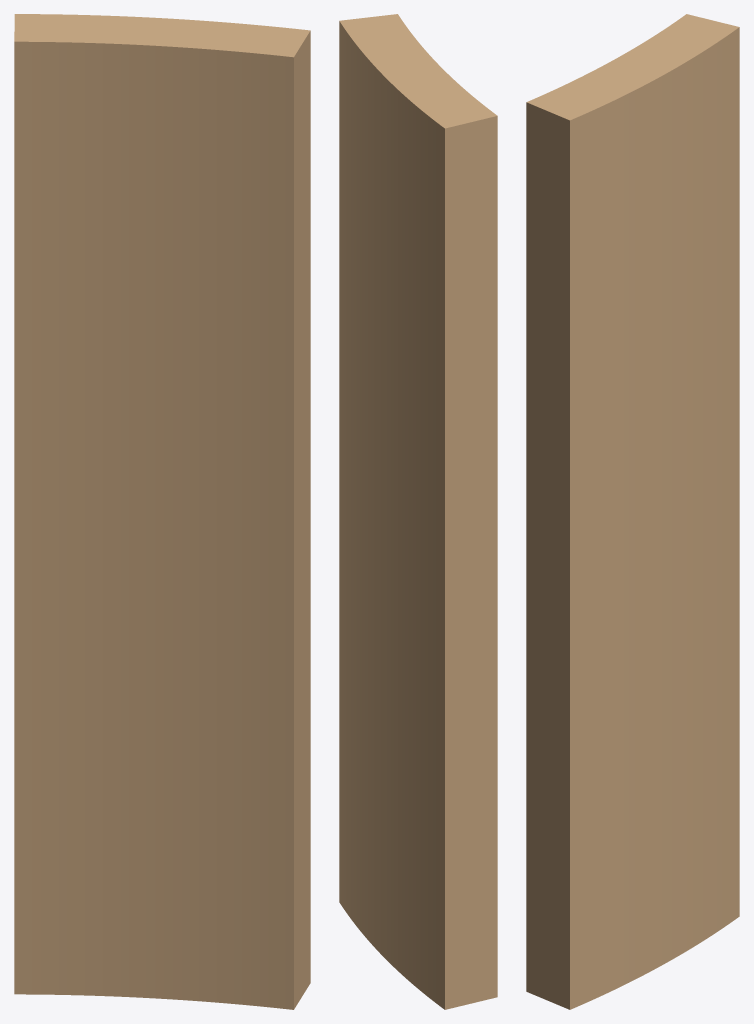
File: starter-commutator-segment-4.glb
3 renders of one model, left to right at view 1: azimuth 30°, elevation 25°; view 2: azimuth 150°, elevation 25°; view 3: azimuth 270°, elevation 25°, orthographic. The views are drawn at different scales.
Parts seen in each view (by area): view 1: world; view 2: world; view 3: world.
Boxes of the visible parts, x1,y1,x2,y2 form: world: (14,14,310,1009); world: (339,14,497,1009); world: (526,14,739,1009).
Size of the model in its own units: 0.00411 by 0.016 by 0.00348.
